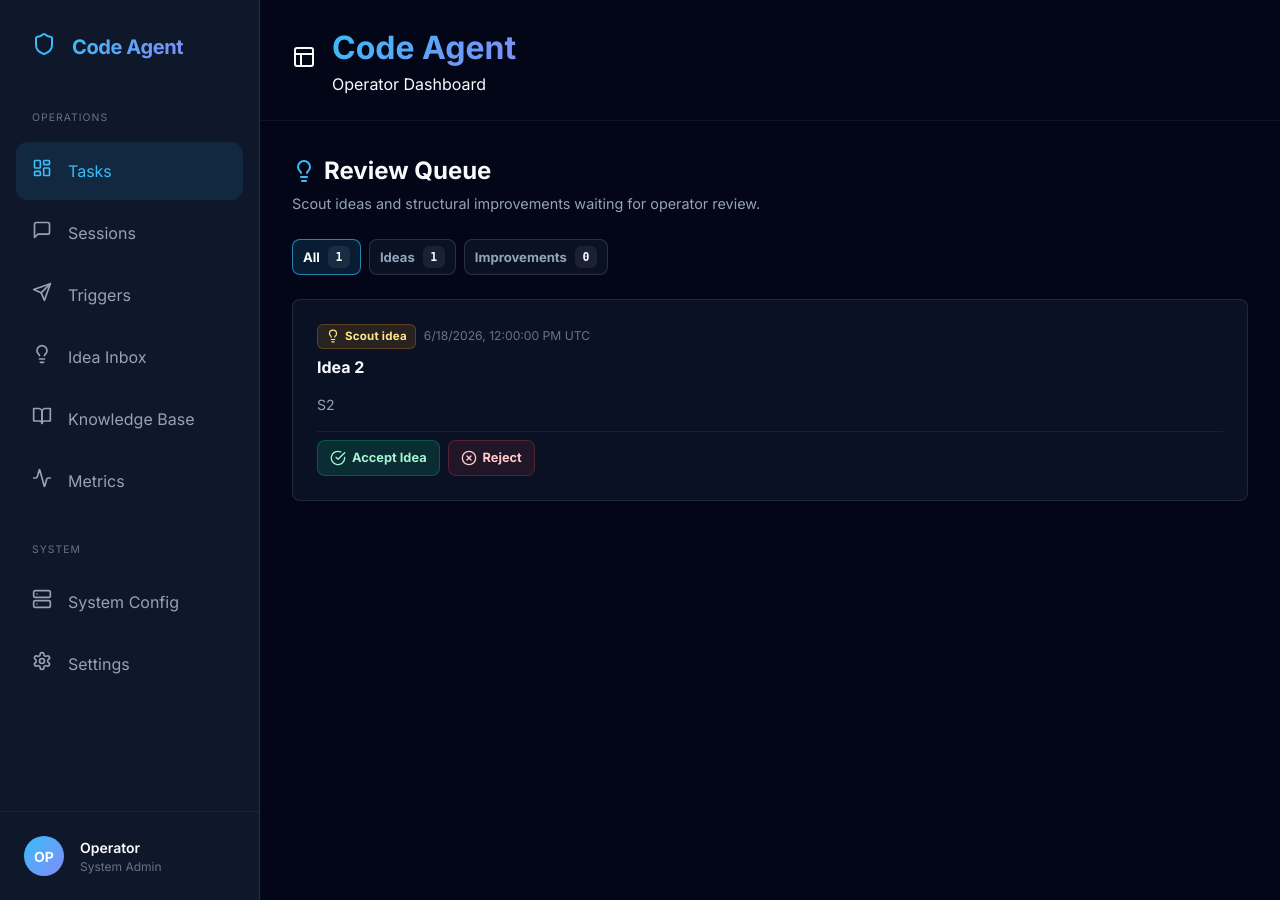
Scenario: IdeaInboxPage › handles rejectProposal error and displays message
This screenshot has width=1280, height=900.
Expected: the heading "Idea 2" is shown, top-left (317, 357), bottom-right (364, 377)
What coordinates should you click on to do the following:
click the button "Reject"
I would click on:
 (491, 458)
Its box is top-left (448, 440), bottom-right (535, 476).
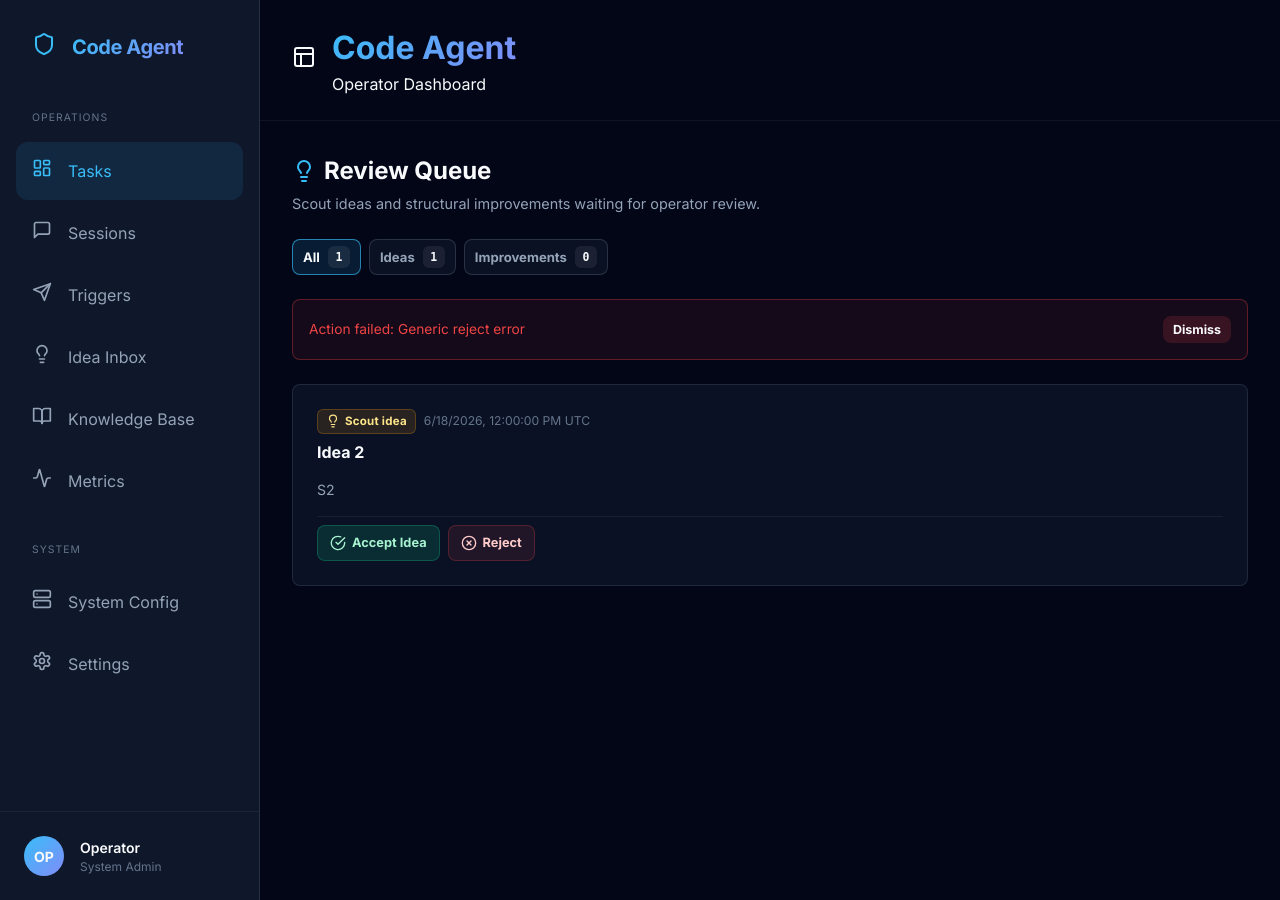
Expected: the text "Action failed: Generic reject error" is shown, top-left (292, 299), bottom-right (1248, 360)
